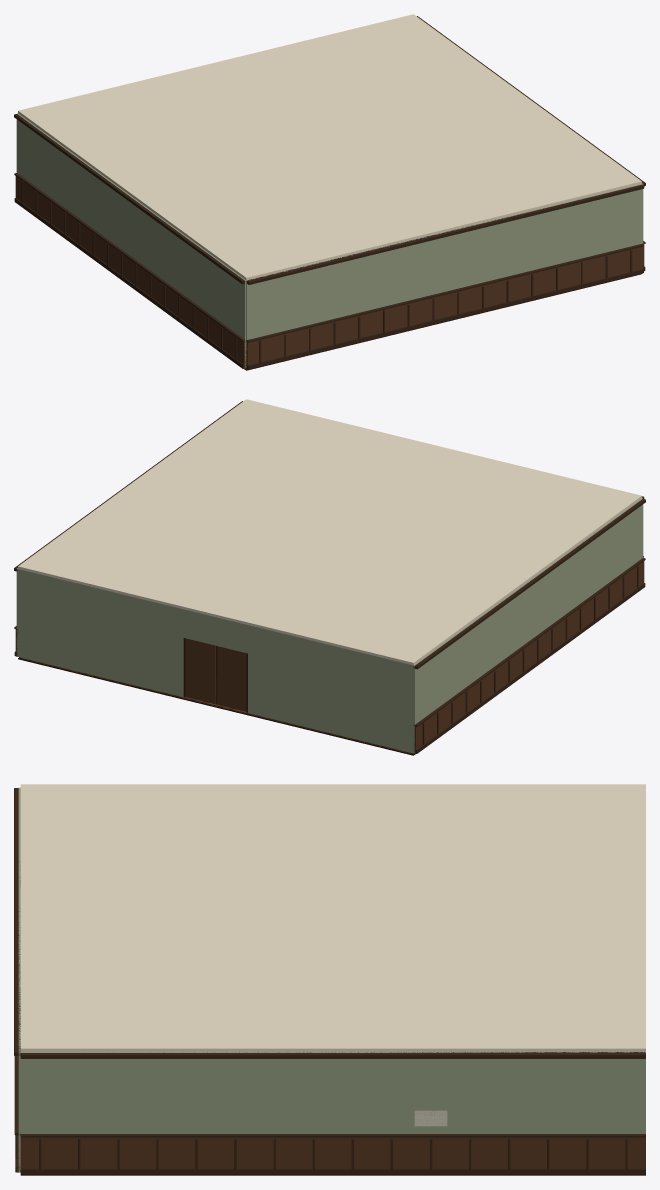
File: WardenRoom.glb
The picture shows the model from 3 angles, top to bottom: view 1: azimuth 30°, elevation 25°; view 2: azimuth 150°, elevation 25°; view 3: azimuth 270°, elevation 25°; orthographic projection. The views are drawn at different scales.
Parts seen in each view (by area): view 1: WardenRoom.001; view 2: WardenRoom.001; view 3: WardenRoom.001.
Boxes of the visible parts, bbox=[...] form: WardenRoom.001: bbox=[14, 14, 645, 370]; WardenRoom.001: bbox=[14, 399, 645, 755]; WardenRoom.001: bbox=[14, 784, 645, 1175].
Size of the model in its own units: 16.34 by 3.59 by 16.17.
